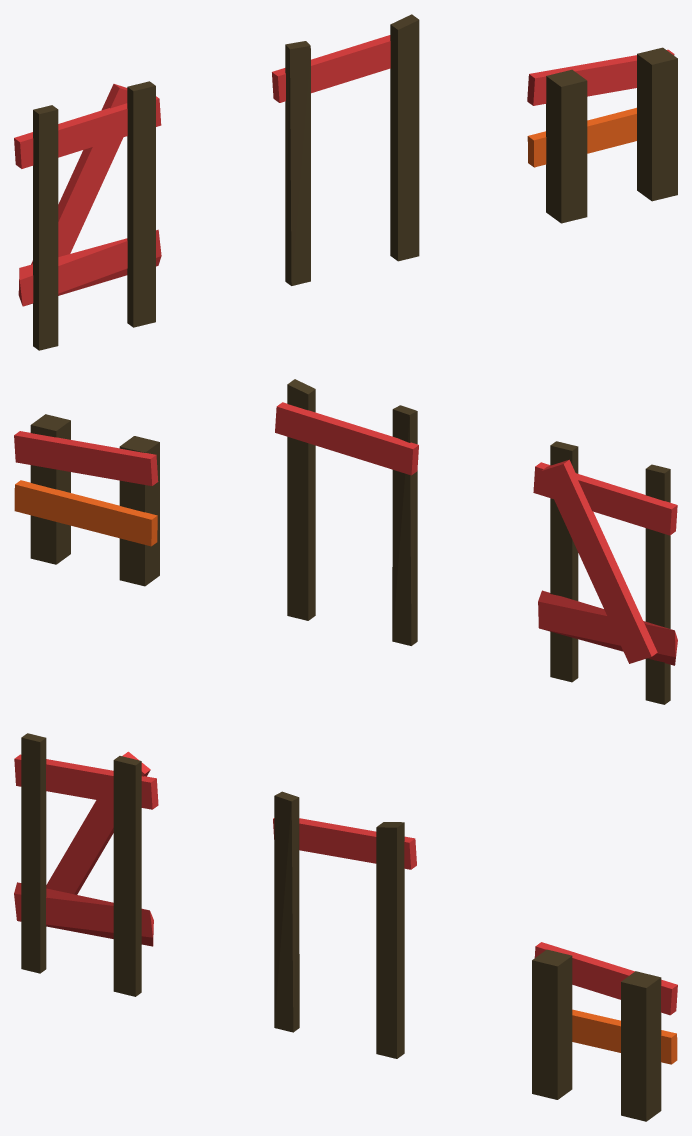
File: Obstacles.dae
3 renders of one model, top to bottom at view 1: azimuth 30°, elevation 25°; view 2: azimuth 150°, elevation 25°; view 3: azimuth 330°, elevation 25°, orthographic. The views are drawn at different scales.
Visible parts, largest first — view 1: ObstacleBlock, ObstacleJump, ObstacleSlide; view 2: ObstacleBlock, ObstacleJump, ObstacleSlide; view 3: ObstacleBlock, ObstacleJump, ObstacleSlide.
Part boxes in pixels (x1,y1,x2,y2): ObstacleBlock: (14, 81, 161, 350); ObstacleJump: (527, 47, 677, 223); ObstacleSlide: (272, 14, 419, 285); ObstacleBlock: (533, 441, 677, 704); ObstacleJump: (14, 414, 159, 586); ObstacleSlide: (275, 379, 418, 645); ObstacleBlock: (14, 733, 158, 996); ObstacleJump: (532, 942, 677, 1121); ObstacleSlide: (273, 791, 416, 1058).
Bounding box in the file's own units: 5.08 × 0.2772 × 1.73.
Materials: 1 (1 with a texture image).
